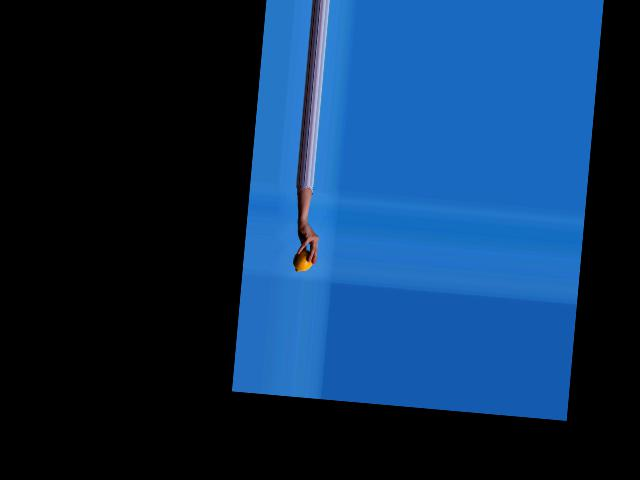lemon: (290, 241, 329, 276)
